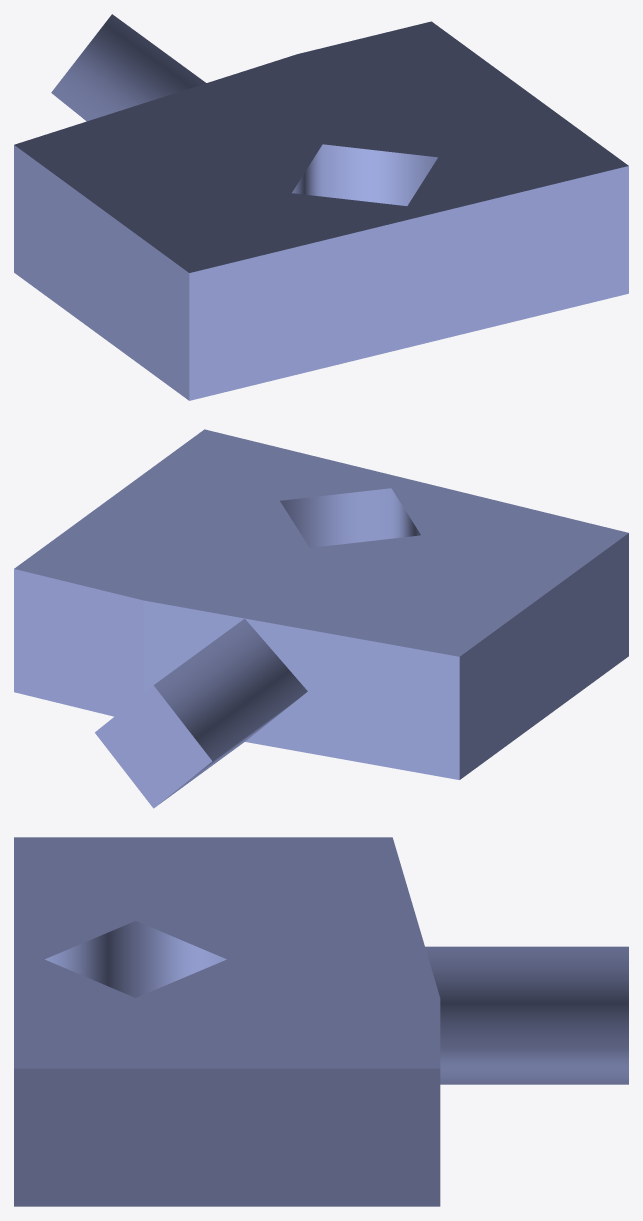
Rendered from Copie de Guide_cremailliere^Copie de ASS pilier 2_Horloge Comtoise Verge - Sonnerie.obj.
3 views of the same model, one above another, from view 1: azimuth 30°, elevation 25°; view 2: azimuth 150°, elevation 25°; view 3: azimuth 270°, elevation 25° (orthographic). The views are drawn at different scales.
Parts seen in each view (by area): view 1: Face_1, Face_6, Face_5, Face_10, Face_2; view 2: Face_1, Face_4, Face_5, Face_8, Face_10, Face_11, Face_2, Face_3; view 3: Face_1, Face_7, Face_10, Face_2.
Boxes of the visible parts, x1=… form: Face_1: x1=14, y1=21, x2=628, y2=272; Face_6: x1=189, y1=166, x2=628, y2=400; Face_5: x1=14, y1=145, x2=189, y2=400; Face_10: x1=51, y1=14, x2=206, y2=121; Face_2: x1=292, y1=144, x2=437, y2=205; Face_1: x1=14, y1=429, x2=628, y2=656; Face_4: x1=245, y1=618, x2=459, y2=779; Face_5: x1=459, y1=533, x2=628, y2=779; Face_8: x1=14, y1=569, x2=143, y2=716; Face_10: x1=153, y1=618, x2=307, y2=807; Face_11: x1=95, y1=685, x2=212, y2=808; Face_2: x1=280, y1=488, x2=420, y2=547; Face_3: x1=143, y1=600, x2=244, y2=692; Face_1: x1=14, y1=837, x2=440, y2=1068; Face_7: x1=14, y1=1068, x2=440, y2=1206; Face_10: x1=425, y1=946, x2=628, y2=1084; Face_2: x1=45, y1=921, x2=226, y2=997.
Size of the model in its own units: 0.009 by 0.0025 by 0.0101.
